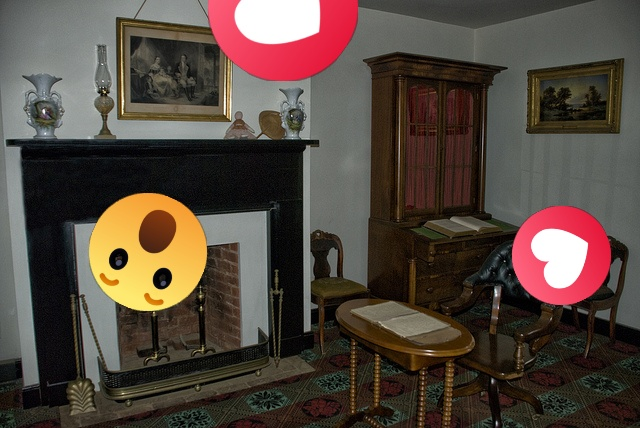love: (208, 0, 358, 81), (512, 206, 611, 305)
wow: (89, 193, 207, 311)
